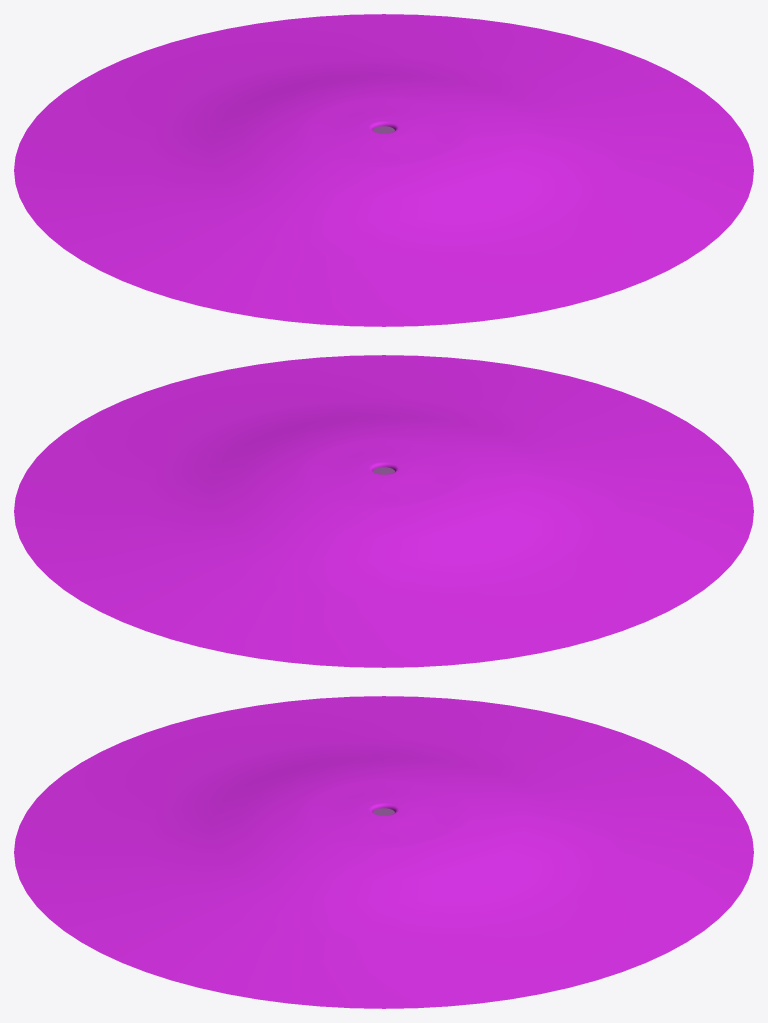
Rendered from LevelEntrance.dae.
3 renders of one model, top to bottom at view 1: azimuth 30°, elevation 25°; view 2: azimuth 150°, elevation 25°; view 3: azimuth 270°, elevation 25°, orthographic.
Parts seen in each view (by area): view 1: Torus; view 2: Torus; view 3: Torus.
Boxes of the visible parts, x1,y1,x2,y2 form: Torus: [14, 14, 753, 326]; Torus: [14, 355, 753, 667]; Torus: [14, 696, 753, 1008].
Bounding box in the file's own units: 49.63 × 49.63 × 3.17.
